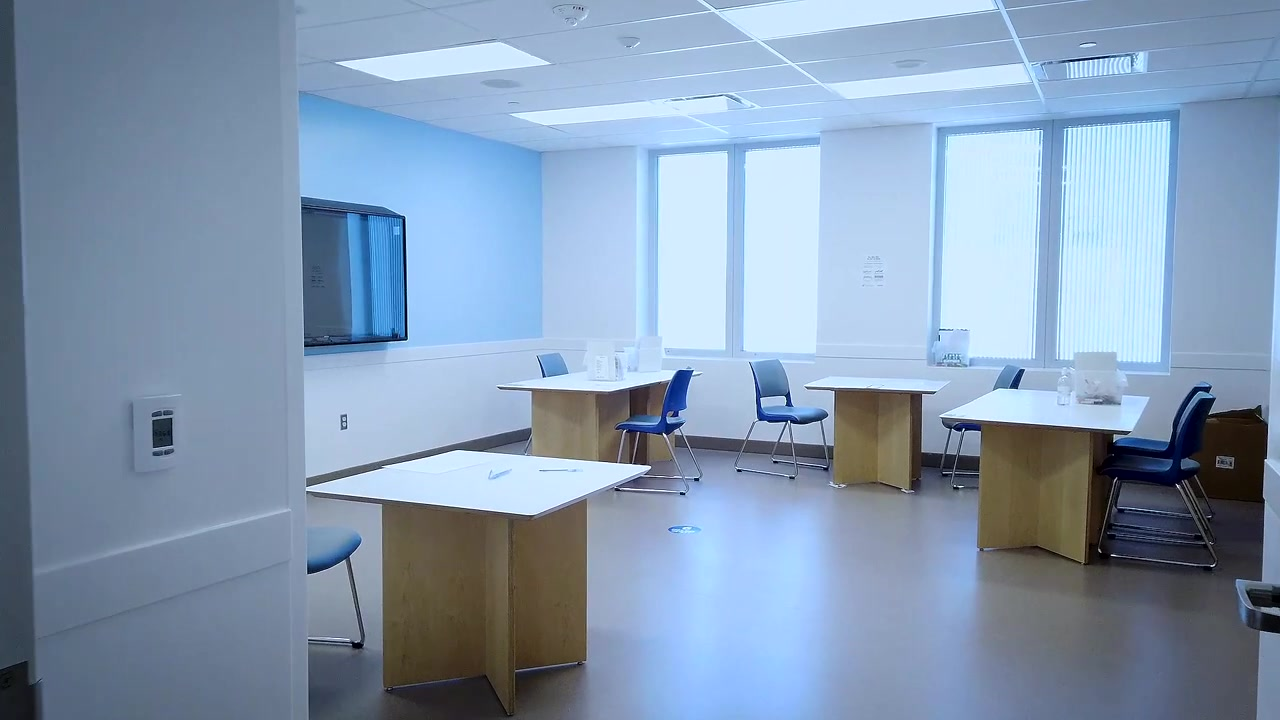TV: (293, 195, 409, 348)
chair: (1097, 391, 1218, 571), (1105, 380, 1215, 539), (734, 359, 830, 479), (614, 367, 703, 495), (939, 364, 1026, 490), (306, 525, 366, 649), (532, 352, 570, 383)
dispenser: (1057, 367, 1072, 406)
door_handle: (1232, 575, 1280, 634)
table: (305, 449, 652, 720), (939, 388, 1150, 565), (496, 369, 703, 465), (803, 376, 951, 495)
waste_bin: (1208, 405, 1270, 504)
